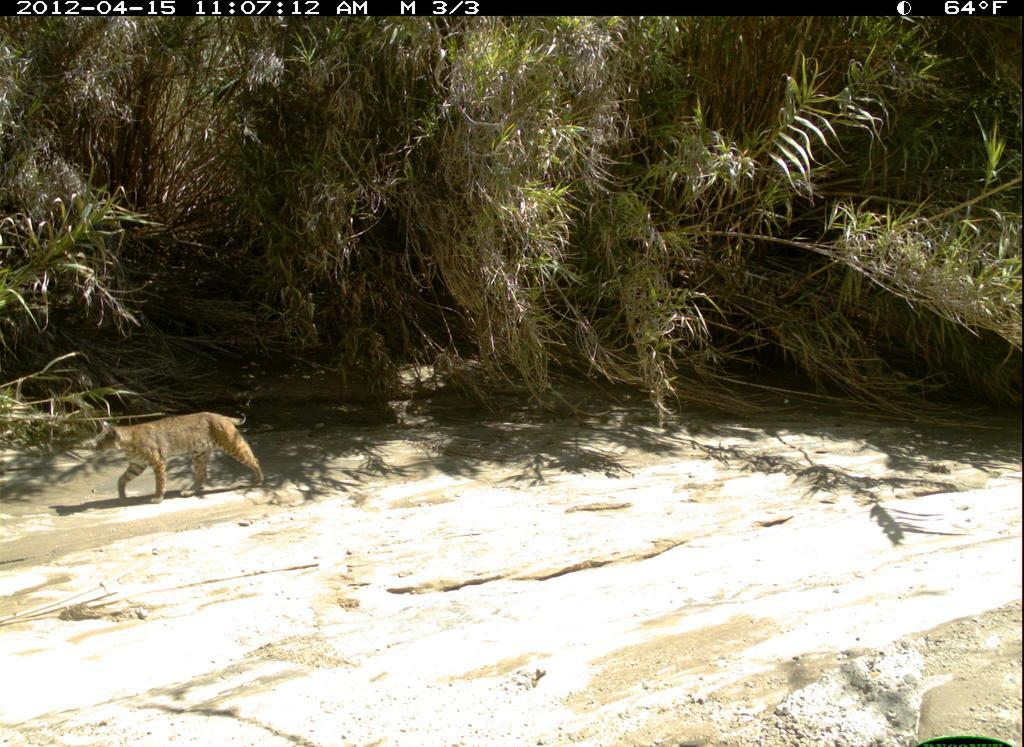bobcat: (81, 390, 305, 525)
